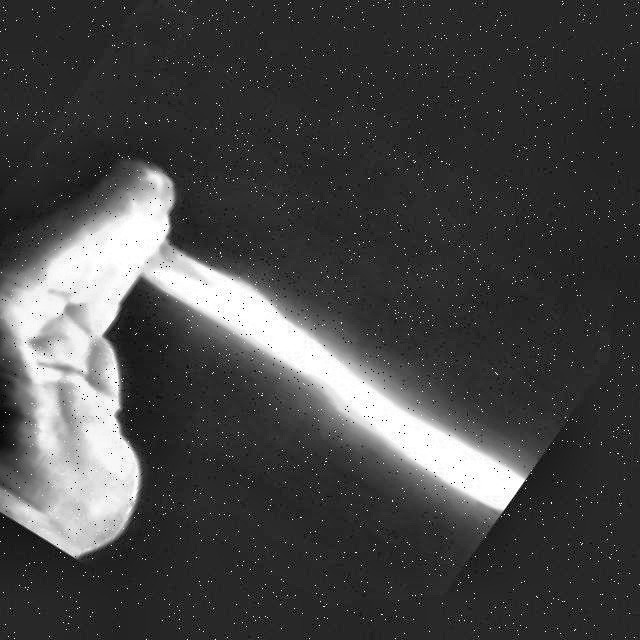Fire: (56, 163, 572, 573)
